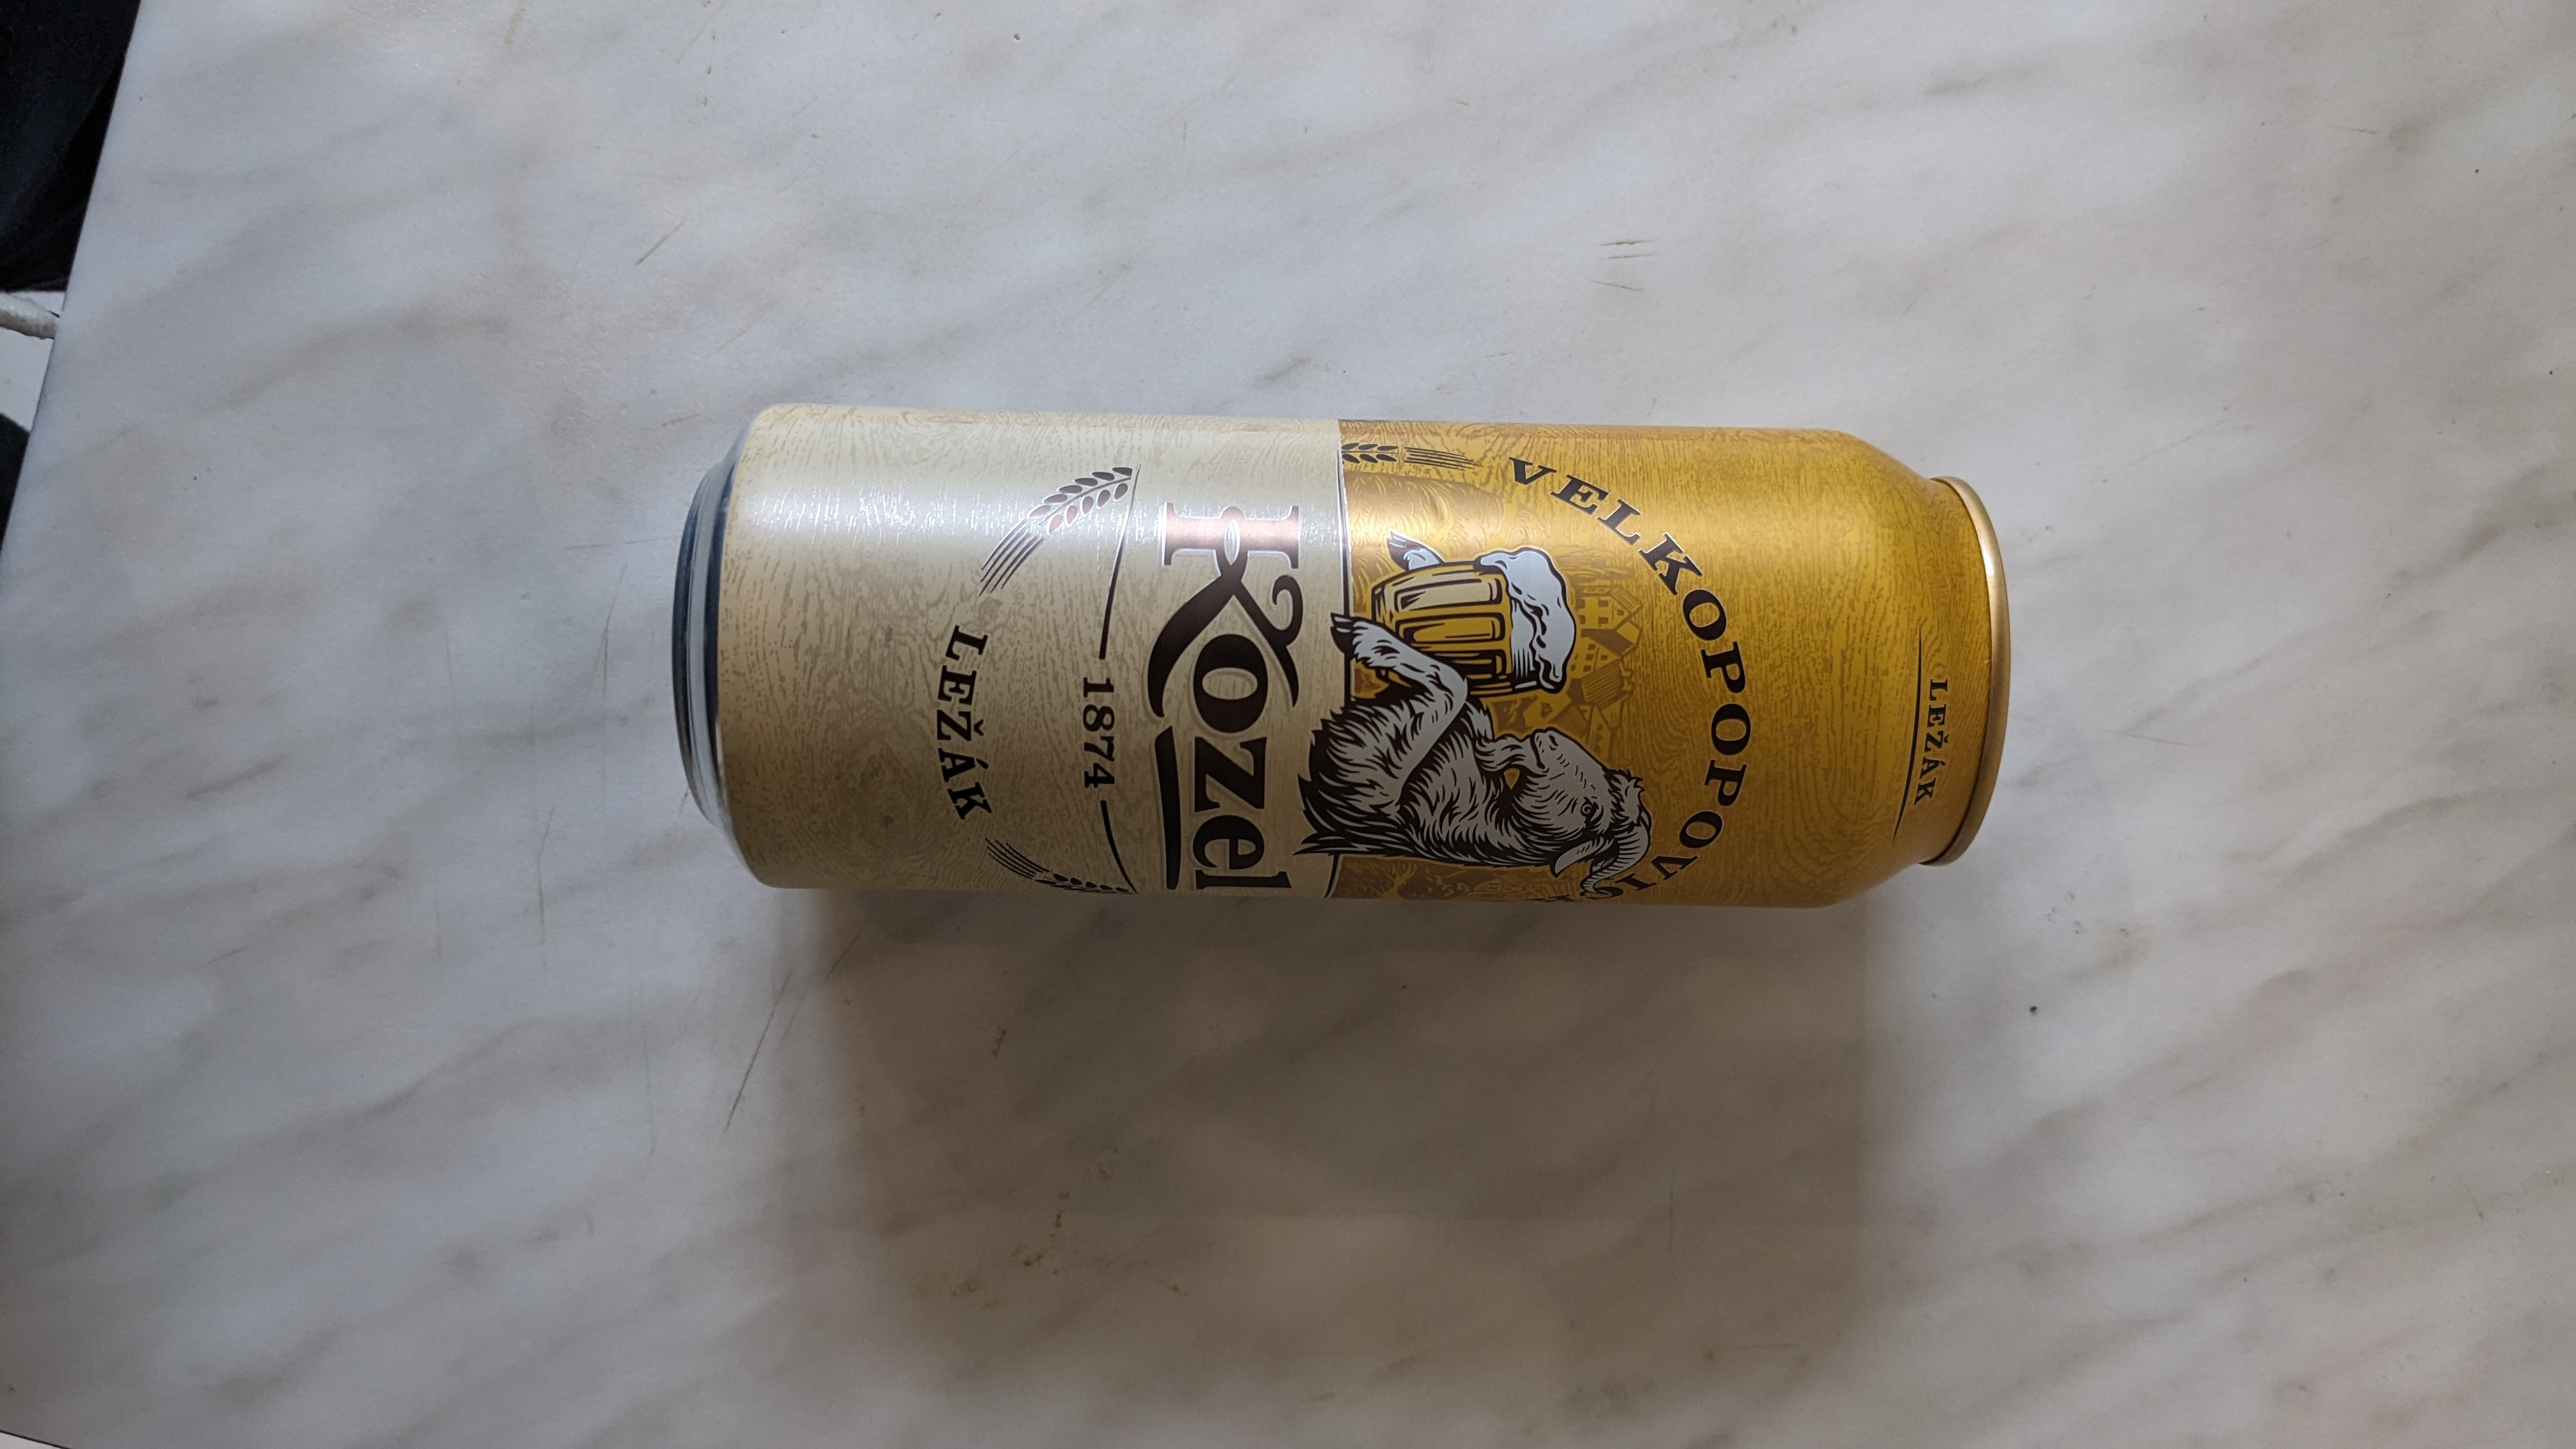kozel: (612, 382, 2029, 931)
